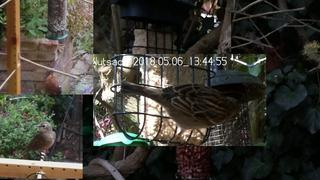sparrow: (120, 81, 240, 136)
starling: (20, 121, 56, 161)
